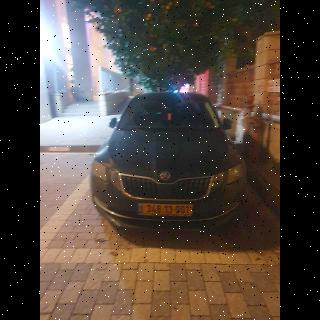LicensePlate: (144, 204, 192, 215)
